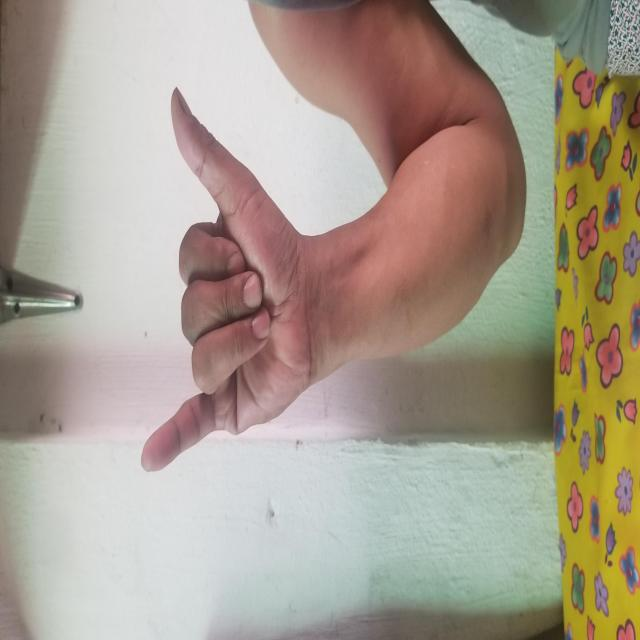Y: (114, 74, 322, 538)
